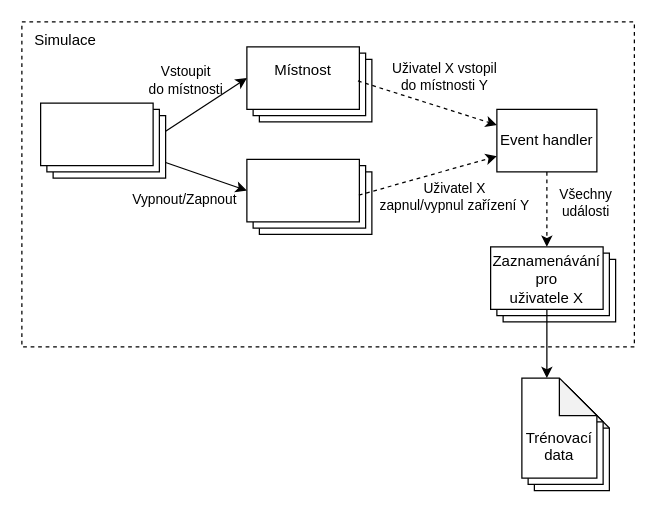
Image size: 656x513. Some labels were removed from this diagram. The centre of each missing label's shape, as x and y in pixels:
Chytré zařízení: the point at 309,196
Uživatel: the point at 102,140
